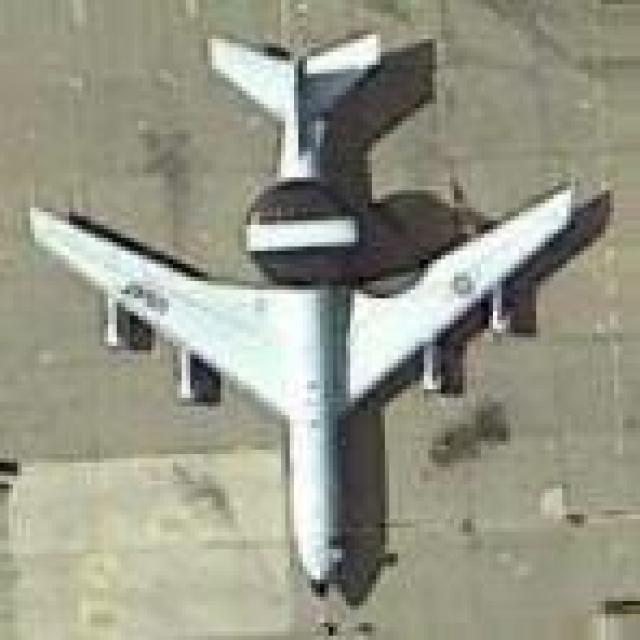E-3_TopDown: (22, 18, 614, 606)
